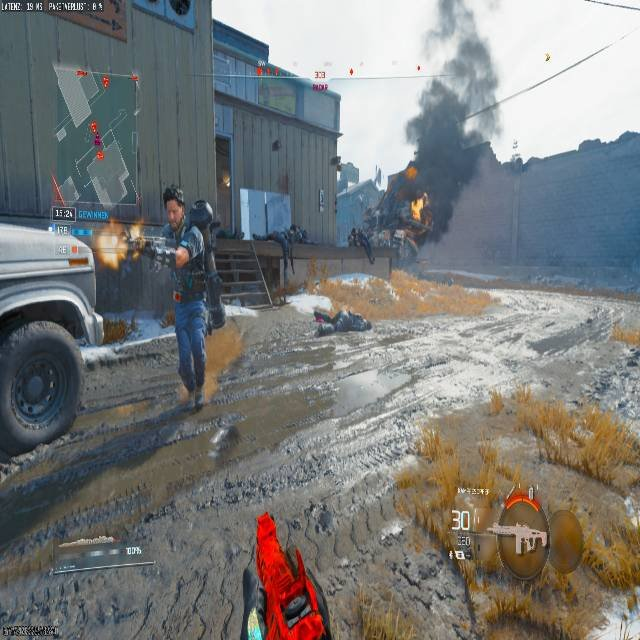head: (162, 185, 185, 225)
player: (147, 184, 223, 401)
